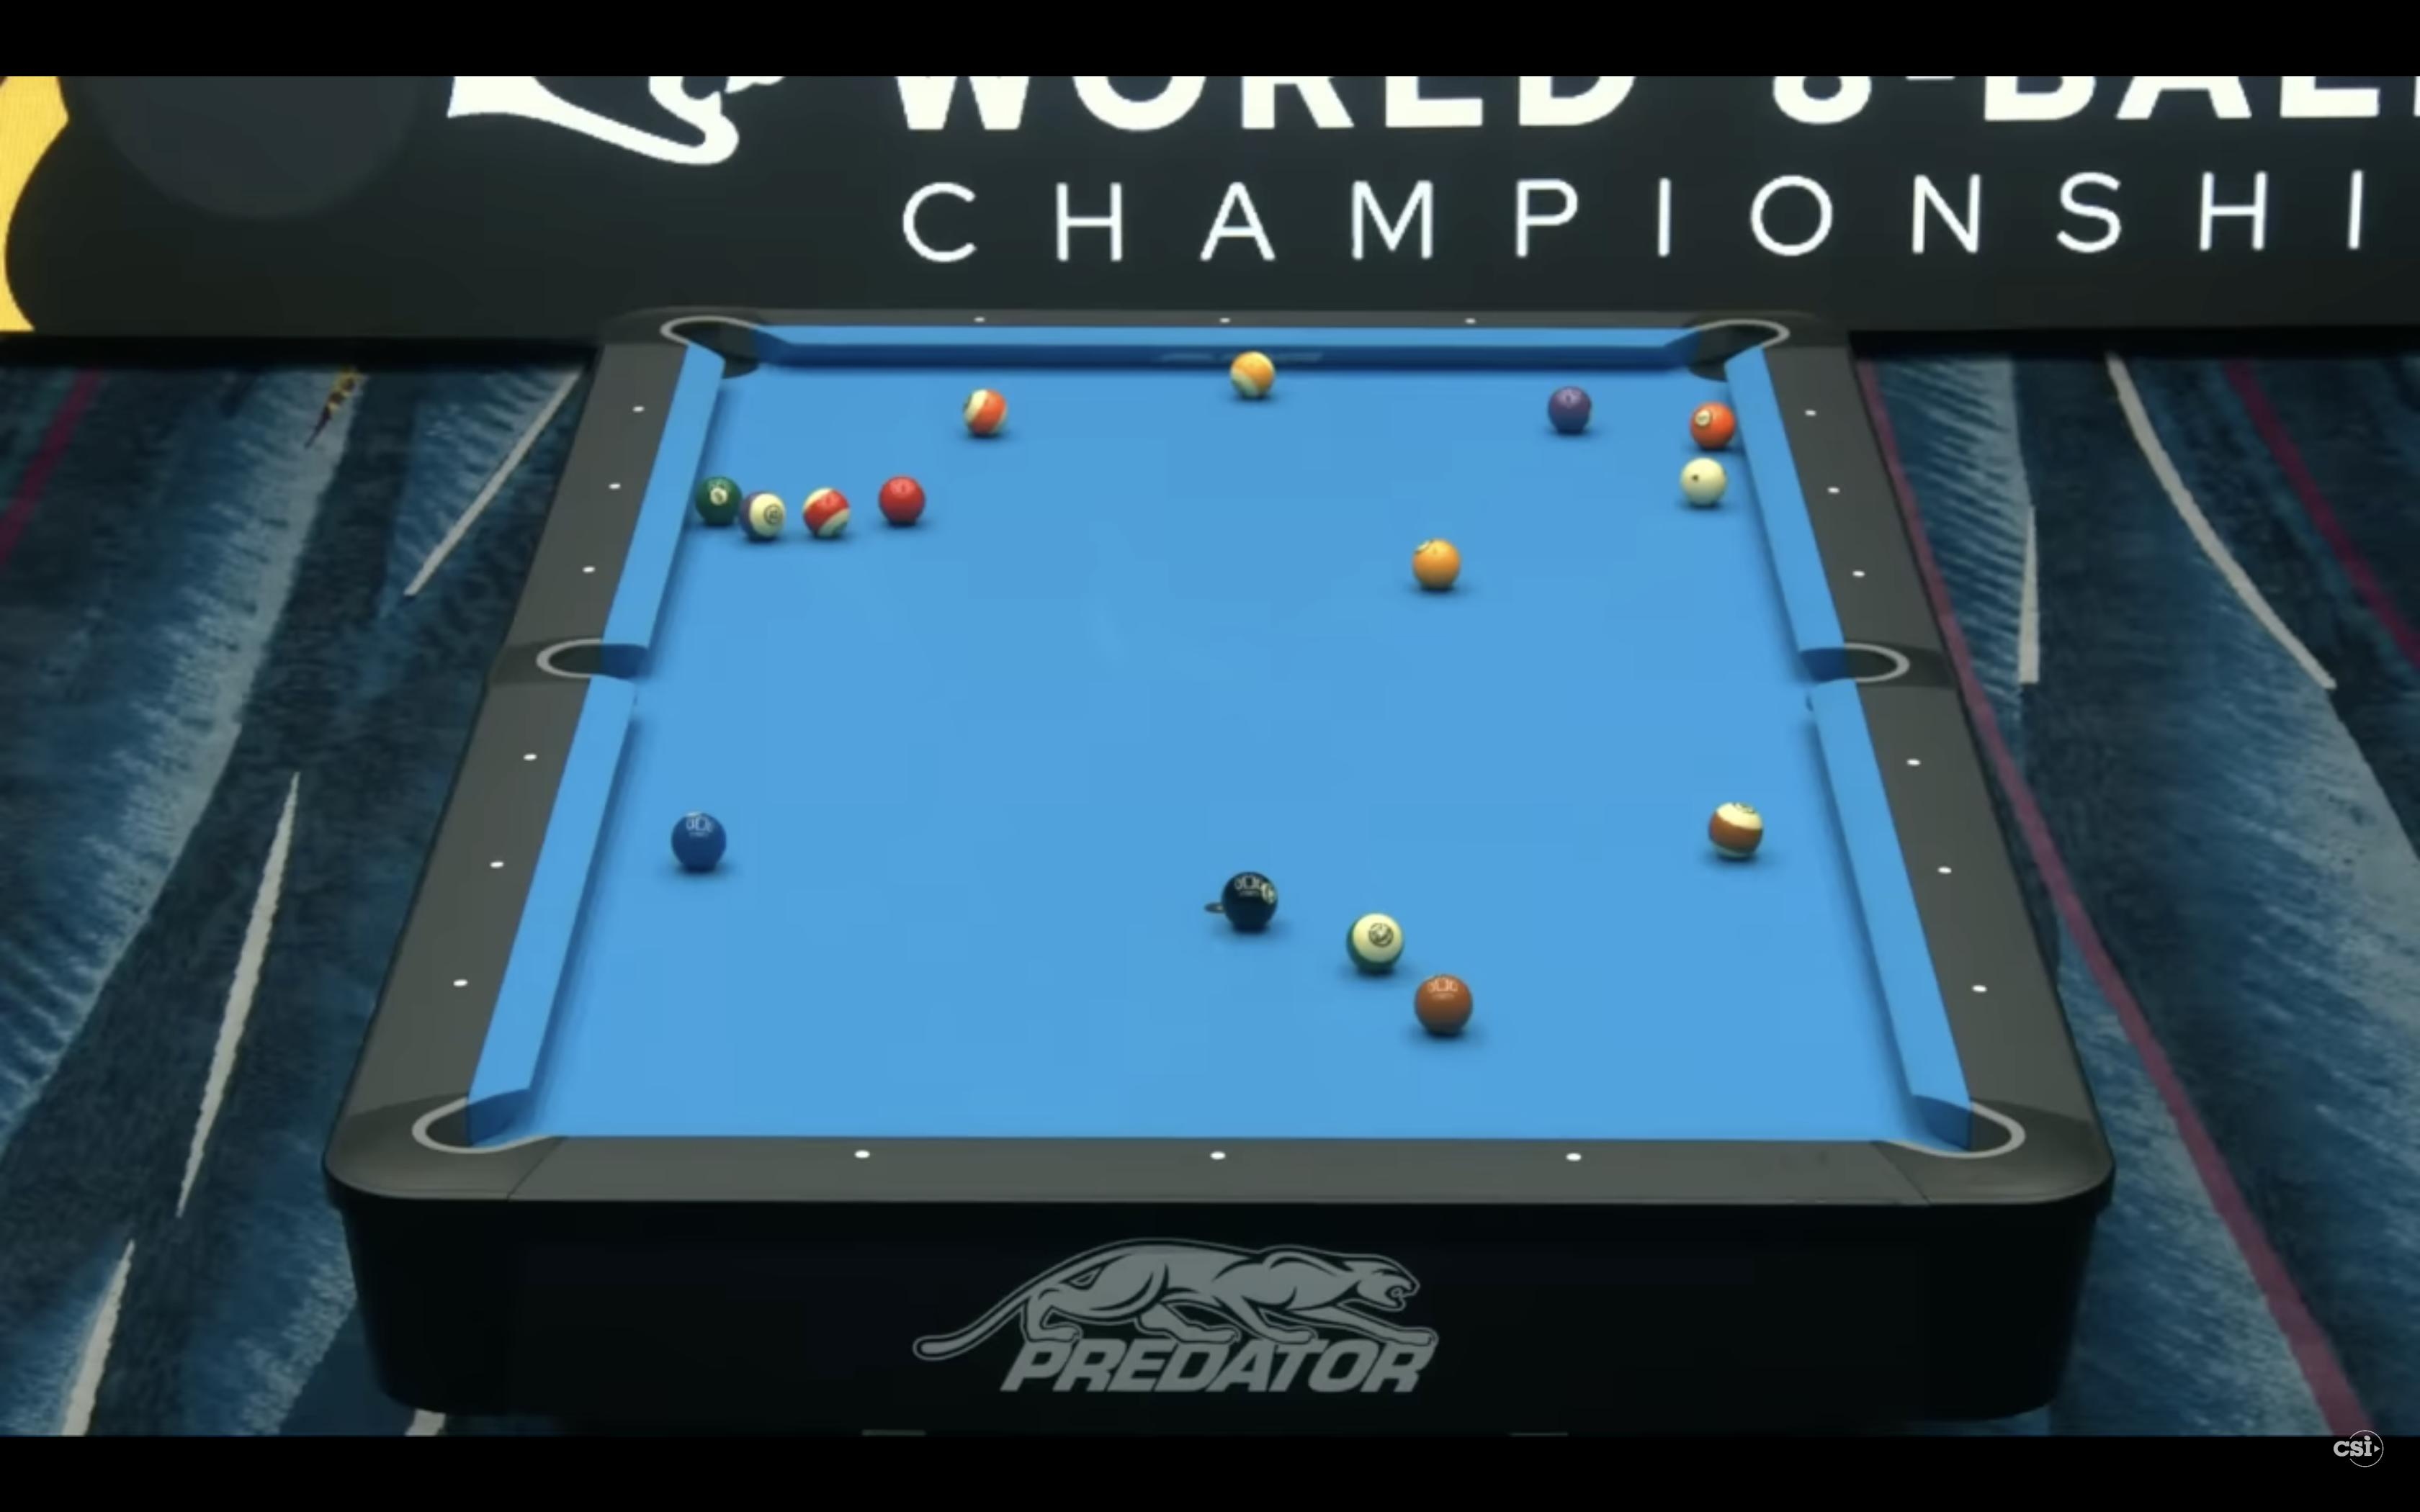Black: (1223, 873, 1279, 928)
Cue: (1681, 458, 1727, 507)
Dot: (854, 1150, 871, 1160), (1906, 758, 1922, 768), (1972, 984, 1988, 995), (1566, 1151, 1582, 1162), (488, 861, 505, 869), (1937, 866, 1953, 874), (1211, 1151, 1227, 1160), (453, 979, 469, 988), (523, 753, 538, 761), (1463, 317, 1477, 326), (1852, 570, 1866, 578), (582, 564, 596, 573), (1828, 486, 1840, 495), (608, 483, 620, 491), (632, 406, 645, 415), (1218, 317, 1232, 324), (1803, 409, 1817, 416), (974, 317, 986, 324)
Solid: (1415, 974, 1474, 1033), (671, 812, 728, 869), (1413, 538, 1462, 589), (878, 476, 925, 524), (693, 477, 742, 524), (1690, 402, 1737, 449), (1549, 385, 1591, 434)
Striped: (1347, 913, 1404, 974), (1709, 801, 1765, 861), (803, 488, 850, 538), (740, 491, 788, 542), (963, 388, 1009, 435), (1232, 352, 1277, 399)
